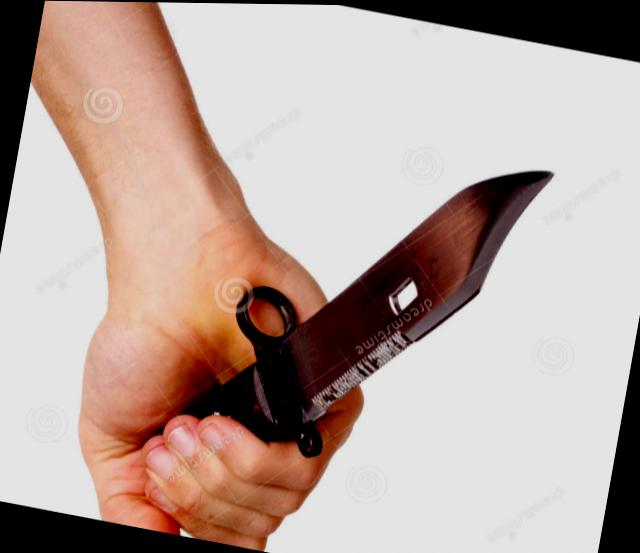pocket-knife: (93, 77, 565, 553)
